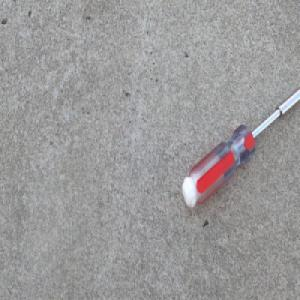Screwdriver: (180, 85, 300, 210)
